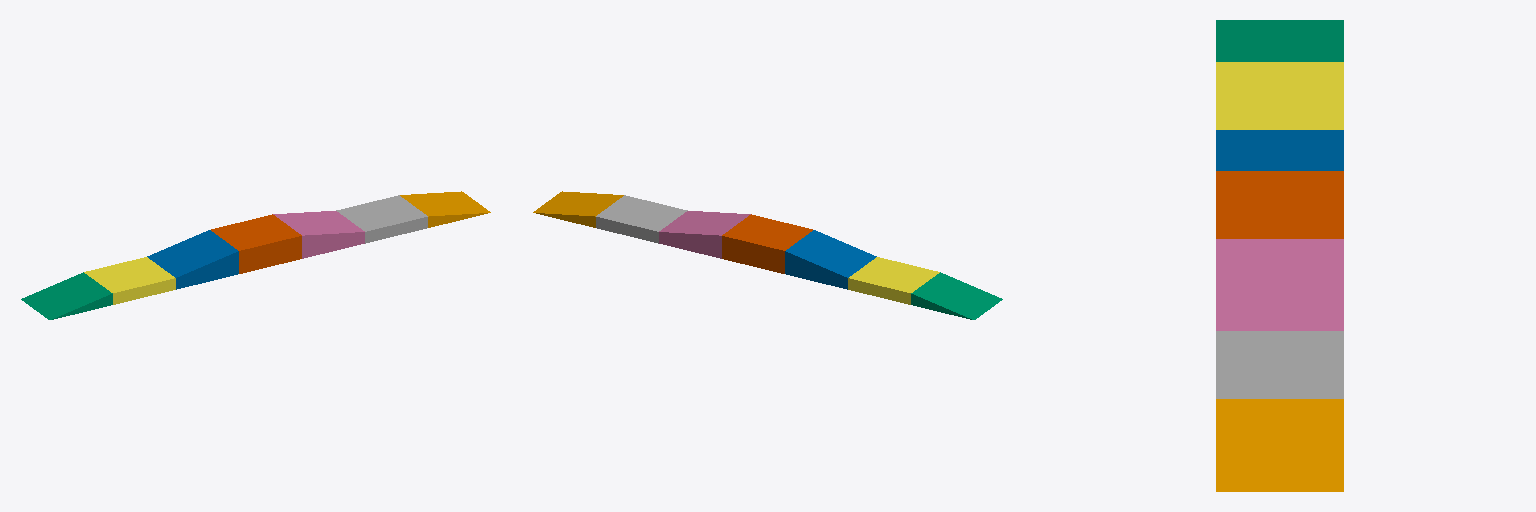
URDF robot description (slope_model):
<?xml version="1.0"?>
<robot name="slope_model">
    <!-- Root link -->
    <link name="world">
        <inertial>
            <origin xyz="0 0 0" rpy="0 0 0"/>
            <mass value="0"/>
            <inertia ixx="0" ixy="0" ixz="0" iyy="0" iyz="0" izz="0"/>
        </inertial>
    </link>
    <link name="planeLink">
        <contact>
            <lateral_friction value="1"/>
        </contact>
        <inertial>
        <origin rpy="0 0 0" xyz="0 0 0"/>
        <mass value=".0"/>
        <inertia ixx="0" ixy="0" ixz="0" iyy="0" iyz="0" izz="0"/>
        </inertial>
        <visual>
        <origin rpy="0 0 0" xyz="0 0 0"/>
        <geometry>
        <mesh filename="plane1000.obj" scale="1 1 1"/>
        </geometry>
        <material name="white">
            <color rgba="1 1 1 1"/>
        </material>
        </visual>
        <collision>
        <origin rpy="0 0 0" xyz="0 0 0"/>
        <geometry>
            <plane normal="0 0 1"/>
        </geometry>
        </collision>
    </link>

    <!-- Terrain 1 -->
    <link name="slope_rough">
        <inertial>
            <origin xyz="0 0 0" rpy="0 0 0"/>
            <mass value="0"/>
            <inertia ixx="0" ixy="0" ixz="0" iyy="0" iyz="0" izz="0"/>
        </inertial>
        <visual>
            <origin xyz="0 0 0" rpy="0 0 0"/>
            <geometry>
                <mesh filename="meshes/2.5/slope_1.STL"/>
            </geometry>
        </visual>
        <collision>
            <origin xyz="0 0 0" rpy="0 0 0"/>
            <geometry>
                <mesh filename="meshes/2.5/slope_1.STL"/>
            </geometry>
        </collision>
    </link>

    <!-- Terrain 1 -->
    <link name="plane_box">
        <inertial>
            <origin xyz="2.5 0 0" rpy="0 0 0"/>
            <mass value="0"/>
            <inertia ixx="0" ixy="0" ixz="0" iyy="0" iyz="0" izz="0"/>
        </inertial>
        <visual>
            <origin xyz="2.5 0 0" rpy="0 0 0"/>
            <geometry>
                <mesh filename="meshes/2.5/plane_box_1.STL"/>
            </geometry>
        </visual>
        <collision>
            <origin xyz="2.5 0 0" rpy="0 0 0"/>
            <geometry>
                <mesh filename="meshes/2.5/plane_box_1.STL"/>
            </geometry>
        </collision>
    </link>

    <link name="slope_rough2">
        <inertial>
            <origin xyz="5 0 0" rpy="0 0 0"/>
            <mass value="0"/>
            <inertia ixx="0" ixy="0" ixz="0" iyy="0" iyz="0" izz="0"/>
        </inertial>
        <visual>
            <origin xyz="5 0 0" rpy="0 0 0"/>
            <geometry>
                <mesh filename="meshes/2.5/slope_2.STL"/>
            </geometry>
        </visual>
        <collision>
            <origin xyz="5 0 0" rpy="0 0 0"/>
            <geometry>
                <mesh filename="meshes/2.5/slope_2.STL"/>
            </geometry>
        </collision>
    </link>

    <!-- Terrain 1 -->
    <link name="plane_box2">
        <inertial>
            <origin xyz="7.5 0 0" rpy="0 0 0"/>
            <mass value="0"/>
            <inertia ixx="0" ixy="0" ixz="0" iyy="0" iyz="0" izz="0"/>
        </inertial>
        <visual>
            <origin xyz="7.5 0 0" rpy="0 0 0"/>
            <geometry>
                <mesh filename="meshes/2.5/plane_box_2.STL"/>
            </geometry>
        </visual>
        <collision>
            <origin xyz="7.5 0 0" rpy="0 0 0"/>
            <geometry>
                <mesh filename="meshes/2.5/plane_box_2.STL"/>
            </geometry>
        </collision>
    </link>

    <link name="slope_rough3">
        <inertial>
            <origin xyz="12.5 2 0" rpy="0 0 3.1415926"/>
            <mass value="0"/>
            <inertia ixx="0" ixy="0" ixz="0" iyy="0" iyz="0" izz="0"/>
        </inertial>
        <visual>
            <origin xyz="12.5 2 0" rpy="0 0 3.1415926"/>
            <geometry>
                <mesh filename="meshes/2.5/slope_2.STL"/>
            </geometry>
        </visual>
        <collision>
            <origin xyz="12.5 2 0" rpy="0 0 3.1415926"/>
            <geometry>
                <mesh filename="meshes/2.5/slope_2.STL"/>
            </geometry>
        </collision>
    </link>

        <!-- Terrain 1 -->
    <link name="plane_box3">
        <inertial>
            <origin xyz="12.5 0 0" rpy="0 0 0"/>
            <mass value="0"/>
            <inertia ixx="0" ixy="0" ixz="0" iyy="0" iyz="0" izz="0"/>
        </inertial>
        <visual>
            <origin xyz="12.5 0 0" rpy="0 0 0"/>
            <geometry>
                <mesh filename="meshes/2.5/plane_box_1.STL"/>
            </geometry>
        </visual>
        <collision>
            <origin xyz="12.5 0 0" rpy="0 0 0"/>
            <geometry>
                <mesh filename="meshes/2.5/plane_box_1.STL"/>
            </geometry>
        </collision>
    </link>

    <link name="slope_rough4">
        <inertial>
            <origin xyz="17.5 2 0" rpy="0 0 3.1415926"/>
            <mass value="0"/>
            <inertia ixx="0" ixy="0" ixz="0" iyy="0" iyz="0" izz="0"/>
        </inertial>
        <visual>
            <origin xyz="17.5 2 0" rpy="0 0 3.1415926"/>
            <geometry>
                <mesh filename="meshes/2.5/slope_1.STL"/>
            </geometry>
        </visual>
        <collision>
            <origin xyz="17.5 2 0" rpy="0 0 3.1415926"/>
            <geometry>
                <mesh filename="meshes/2.5/slope_1.STL"/>
            </geometry>
        </collision>
    </link>


    <!-- Joints to connect the links -->
    <joint name="world_to_plane_box" type="fixed">
        <parent link="world"/>
        <child link="plane_box"/>
        <origin xyz="0 0 0" rpy="0 0 0"/>
    </joint>

    <joint name="world_to_slope_rough" type="fixed">
        <parent link="world"/>
        <child link="slope_rough"/>
        <origin xyz="0 0 0" rpy="0 0 0"/>
    </joint>

    <joint name="world_to_plane_box2" type="fixed">
        <parent link="world"/>
        <child link="plane_box2"/>
        <origin xyz="0 0 0" rpy="0 0 0"/>
    </joint>

    <joint name="world_to_plane_box3" type="fixed">
        <parent link="world"/>
        <child link="plane_box3"/>
        <origin xyz="0 0 0" rpy="0 0 0"/>
    </joint>

    <joint name="world_to_slope_rough2" type="fixed">
        <parent link="world"/>
        <child link="slope_rough2"/>
        <origin xyz="0 0 0" rpy="0 0 0"/>
    </joint>

    <joint name="world_to_slope_rough3" type="fixed">
        <parent link="world"/>
        <child link="slope_rough3"/>
        <origin xyz="0 0 0" rpy="0 0 0"/>
    </joint>
    <joint name="world_to_slope_rough4" type="fixed">
        <parent link="world"/>
        <child link="slope_rough4"/>
        <origin xyz="0 0 0" rpy="0 0 0"/>
    </joint>


    <joint name="plane_joint" type="fixed">
        <parent link="world"/>
        <child link="planeLink"/>
        <origin xyz="0 0 0" rpy="0 0 0"/>
    </joint>

</robot>

--- Render facts (derived) ---
The picture shows the robot from 3 angles, left to right: view 1: azimuth 30°, elevation 25°; view 2: azimuth 150°, elevation 25°; view 3: azimuth 270°, elevation 25°; orthographic projection.
Robot: slope_model — 9 links, 8 joints (8 fixed); root link world; default pose: all joints at 0.
Visible links, largest first — view 1: plane_box2, slope_rough2, slope_rough3, plane_box3, plane_box, slope_rough, slope_rough4; view 2: plane_box2, slope_rough2, slope_rough3, plane_box3, plane_box, slope_rough, slope_rough4; view 3: slope_rough4, slope_rough3, plane_box, plane_box2, plane_box3, slope_rough, slope_rough2.
Boxes of the visible links, <box> form: plane_box2: <box>211,214,301,273</box>; slope_rough2: <box>147,230,238,289</box>; slope_rough3: <box>273,211,364,258</box>; plane_box3: <box>336,195,427,243</box>; plane_box: <box>84,257,175,304</box>; slope_rough: <box>21,272,112,319</box>; slope_rough4: <box>400,191,490,227</box>; plane_box2: <box>722,214,812,273</box>; slope_rough2: <box>785,230,876,289</box>; slope_rough3: <box>659,211,750,258</box>; plane_box3: <box>596,195,687,243</box>; plane_box: <box>848,257,939,304</box>; slope_rough: <box>911,272,1002,319</box>; slope_rough4: <box>533,191,623,227</box>; slope_rough4: <box>1216,399,1343,491</box>; slope_rough3: <box>1216,239,1343,330</box>; plane_box: <box>1216,62,1343,129</box>; plane_box2: <box>1216,171,1343,238</box>; plane_box3: <box>1216,331,1343,398</box>; slope_rough: <box>1216,20,1343,61</box>; slope_rough2: <box>1216,130,1343,170</box>.
Bounding box of the posed robot: 17.5 × 2 × 0.8816 m (x, y, z).
7 mesh visuals loaded from 5 distinct referenced files (4 binary STL); not drawn: 1 (reference not matched to a file when rendering).